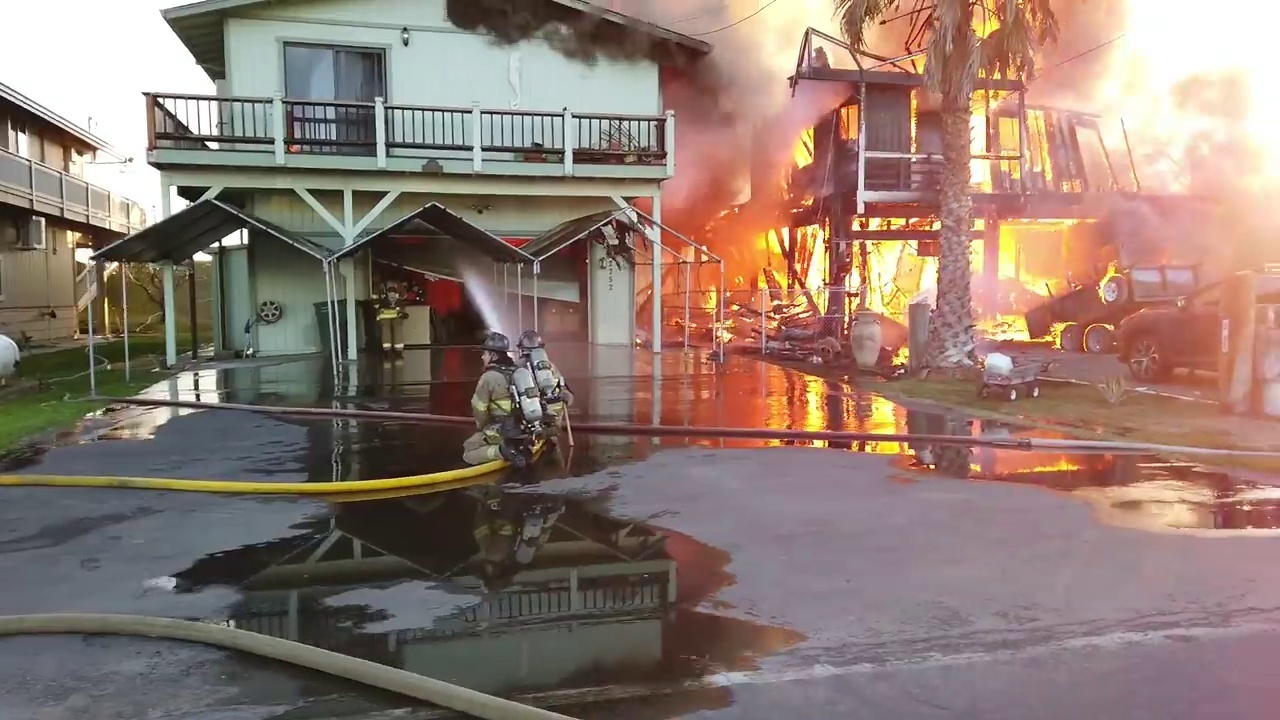fire: (738, 34, 1099, 442), (1000, 214, 1121, 312), (848, 216, 939, 305), (757, 229, 851, 309), (990, 112, 1057, 175), (1050, 316, 1127, 366), (966, 104, 994, 191), (786, 121, 820, 169), (834, 105, 862, 145), (989, 311, 1026, 332)
smoke: (1092, 1, 1280, 303), (437, 1, 735, 101), (744, 72, 859, 200), (671, 109, 736, 241)
